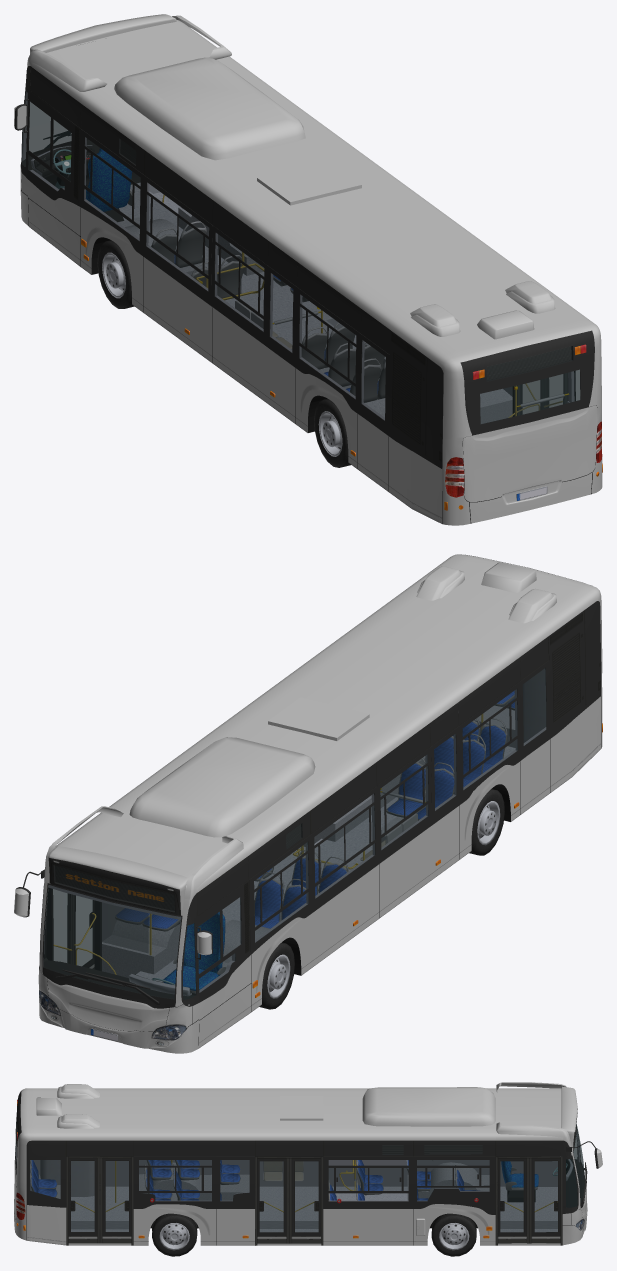
Rendered from city bus_1.FBX.
3 views of the same model, one above another, from view 1: azimuth 30°, elevation 25°; view 2: azimuth 150°, elevation 25°; view 3: azimuth 270°, elevation 25° (orthographic). The views are drawn at different scales.
Visible parts, largest first — view 1: EXTE_BUS_STRUCTURE, glass, INTE_BUS_STRUCTURE, driver_seat, WheelFL, WheelRL, CHAIR_097, CHAIR_111, CHAIR_095, CHAIR_114, CHAIR_112; view 2: EXTE_BUS_STRUCTURE, glass, INTE_BUS_STRUCTURE, driver_seat, WheelRL, WheelFL, DOOR_1B, DOOR_1A, CHAIR_109, CHAIR_097, CHAIR_112, CHAIR_111 (+1 smaller); view 3: EXTE_BUS_STRUCTURE, INTE_BUS_STRUCTURE, glass, DOOR_2B, DOOR_2A, DOOR_1B, DOOR_1A, DOOR_3A, DOOR_3B, WheelRR, WheelFR, driver_seat (+5 smaller).
Part boxes in pixels (x1=…): EXTE_BUS_STRUCTURE: x1=14, y1=14, x2=602, y2=525; glass: x1=22, y1=90, x2=580, y2=423; INTE_BUS_STRUCTURE: x1=22, y1=90, x2=568, y2=423; driver_seat: x1=86, y1=148, x2=132, y2=221; WheelFL: x1=97, y1=240, x2=134, y2=308; WheelRL: x1=314, y1=398, x2=350, y2=467; CHAIR_097: x1=174, y1=221, x2=206, y2=267; CHAIR_111: x1=324, y1=343, x2=355, y2=386; CHAIR_095: x1=217, y1=255, x2=244, y2=298; CHAIR_114: x1=301, y1=327, x2=327, y2=369; CHAIR_112: x1=346, y1=358, x2=381, y2=402; EXTE_BUS_STRUCTURE: x1=14, y1=554, x2=602, y2=1053; glass: x1=44, y1=668, x2=546, y2=999; INTE_BUS_STRUCTURE: x1=43, y1=668, x2=546, y2=999; driver_seat: x1=162, y1=912, x2=225, y2=995; WheelRL: x1=469, y1=789, x2=504, y2=855; WheelFL: x1=259, y1=942, x2=294, y2=1009; DOOR_1B: x1=72, y1=895, x2=96, y2=968; DOOR_1A: x1=53, y1=889, x2=72, y2=963; CHAIR_109: x1=386, y1=758, x2=425, y2=817; CHAIR_097: x1=254, y1=872, x2=284, y2=928; CHAIR_112: x1=478, y1=718, x2=507, y2=772; CHAIR_111: x1=453, y1=733, x2=485, y2=793; EXTE_BUS_STRUCTURE: x1=14, y1=1082, x2=602, y2=1245; INTE_BUS_STRUCTURE: x1=15, y1=1129, x2=584, y2=1232; glass: x1=15, y1=1119, x2=584, y2=1207; DOOR_2B: x1=257, y1=1158, x2=289, y2=1243; DOOR_2A: x1=289, y1=1158, x2=321, y2=1243; DOOR_1B: x1=498, y1=1158, x2=529, y2=1243; DOOR_1A: x1=529, y1=1158, x2=560, y2=1243; DOOR_3A: x1=100, y1=1158, x2=131, y2=1243; DOOR_3B: x1=68, y1=1158, x2=99, y2=1243; WheelRR: x1=152, y1=1213, x2=197, y2=1256; WheelFR: x1=431, y1=1213, x2=476, y2=1256; driver_seat: x1=501, y1=1161, x2=538, y2=1202.
Size of the model in its own units: 3.03 by 3.35 by 13.57.
